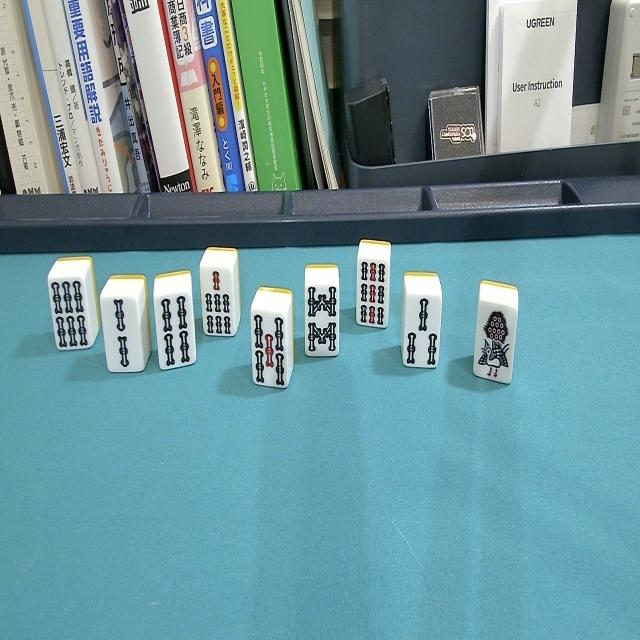1_sou: (471, 279, 521, 393)
2_sou: (100, 275, 150, 380)
3_sou: (400, 271, 444, 377)
4_sou: (154, 272, 198, 376)
5_sou: (250, 284, 296, 394)
6_sou: (46, 256, 102, 356)
7_sou: (199, 243, 243, 342)
8_sou: (303, 264, 342, 364)
9_sou: (354, 237, 394, 335)
